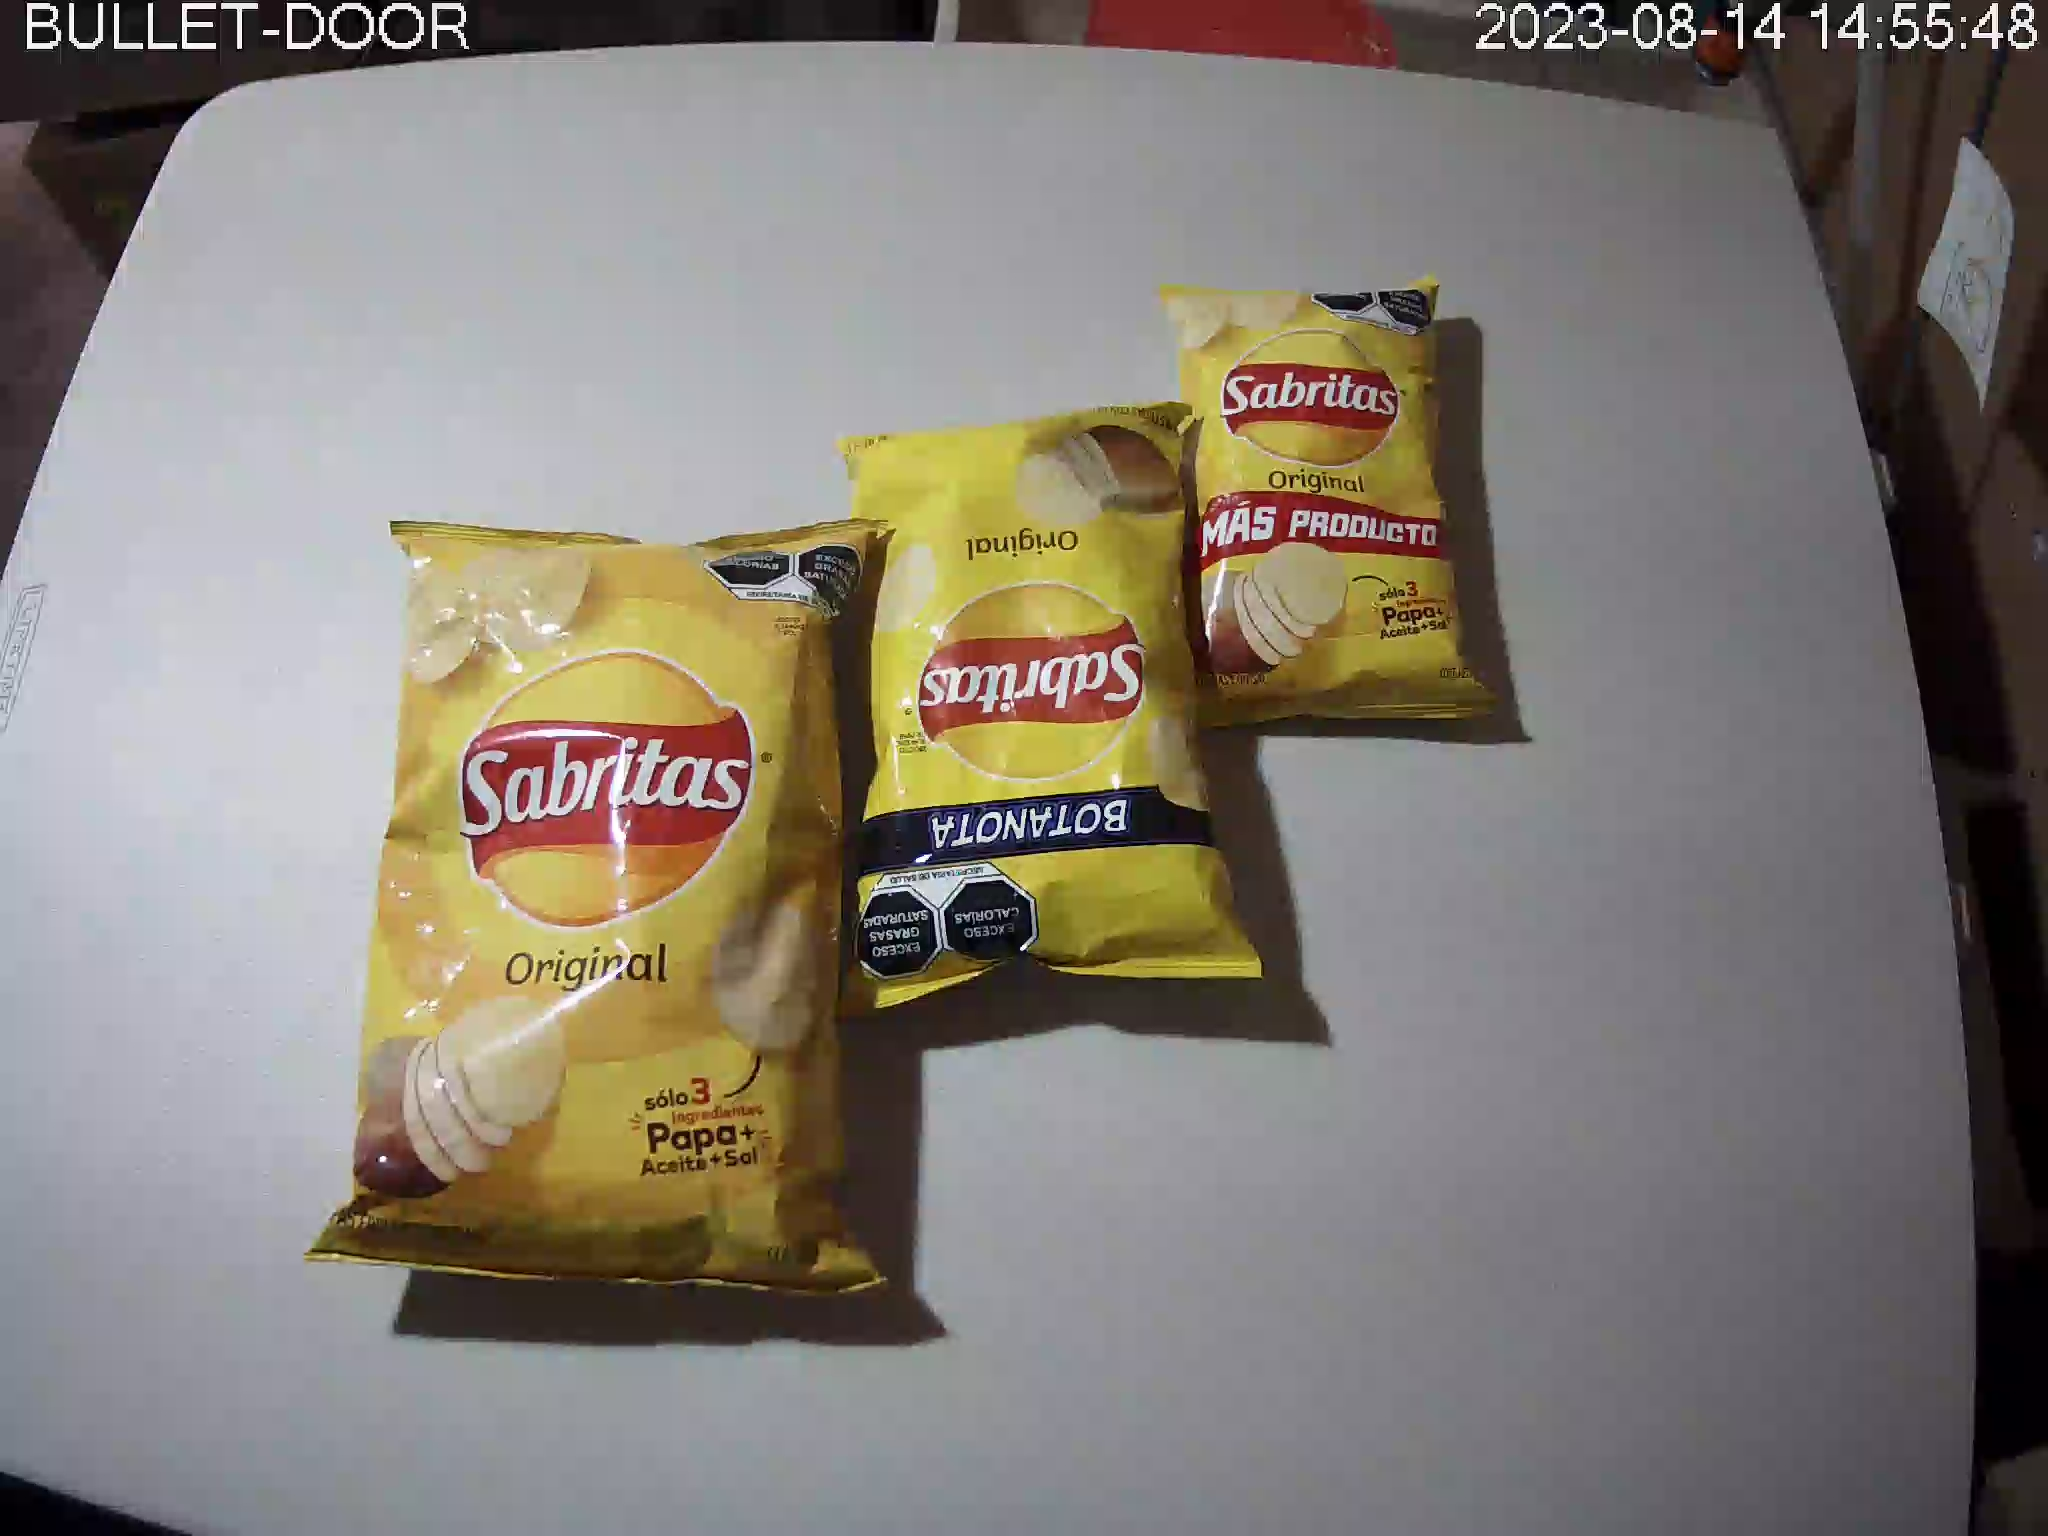Sabritas_160_F: (305, 518, 885, 1300)
Sabritas_45_F: (1153, 269, 1501, 729)
Sabritas_64_F: (824, 402, 1263, 1025)
